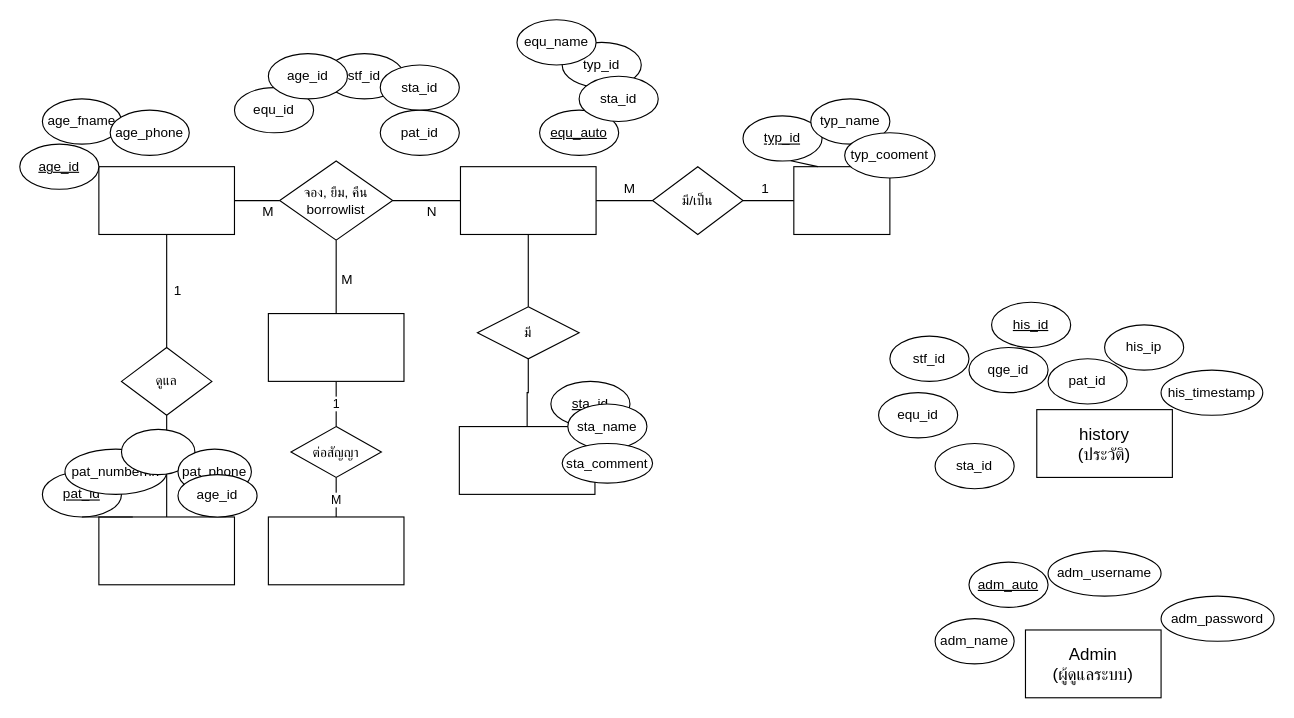
Some shapes in this 1294 by 718 pixel diagram are drawn without their labels. Each missing label, with the centre of its shape:
agent (ผู้ยืม): pixel 166 200
equipment (อุปกรณ์): pixel 527 200
hospital patient ผู้ป่วยจากรพ: pixel 335 550
pat_fname: pixel 157 451
patient (ผู้ป่วย): pixel 166 550
staff (เจ้าหน้าที่): pixel 335 346
Status: pixel 526 459
Type: pixel 841 200
